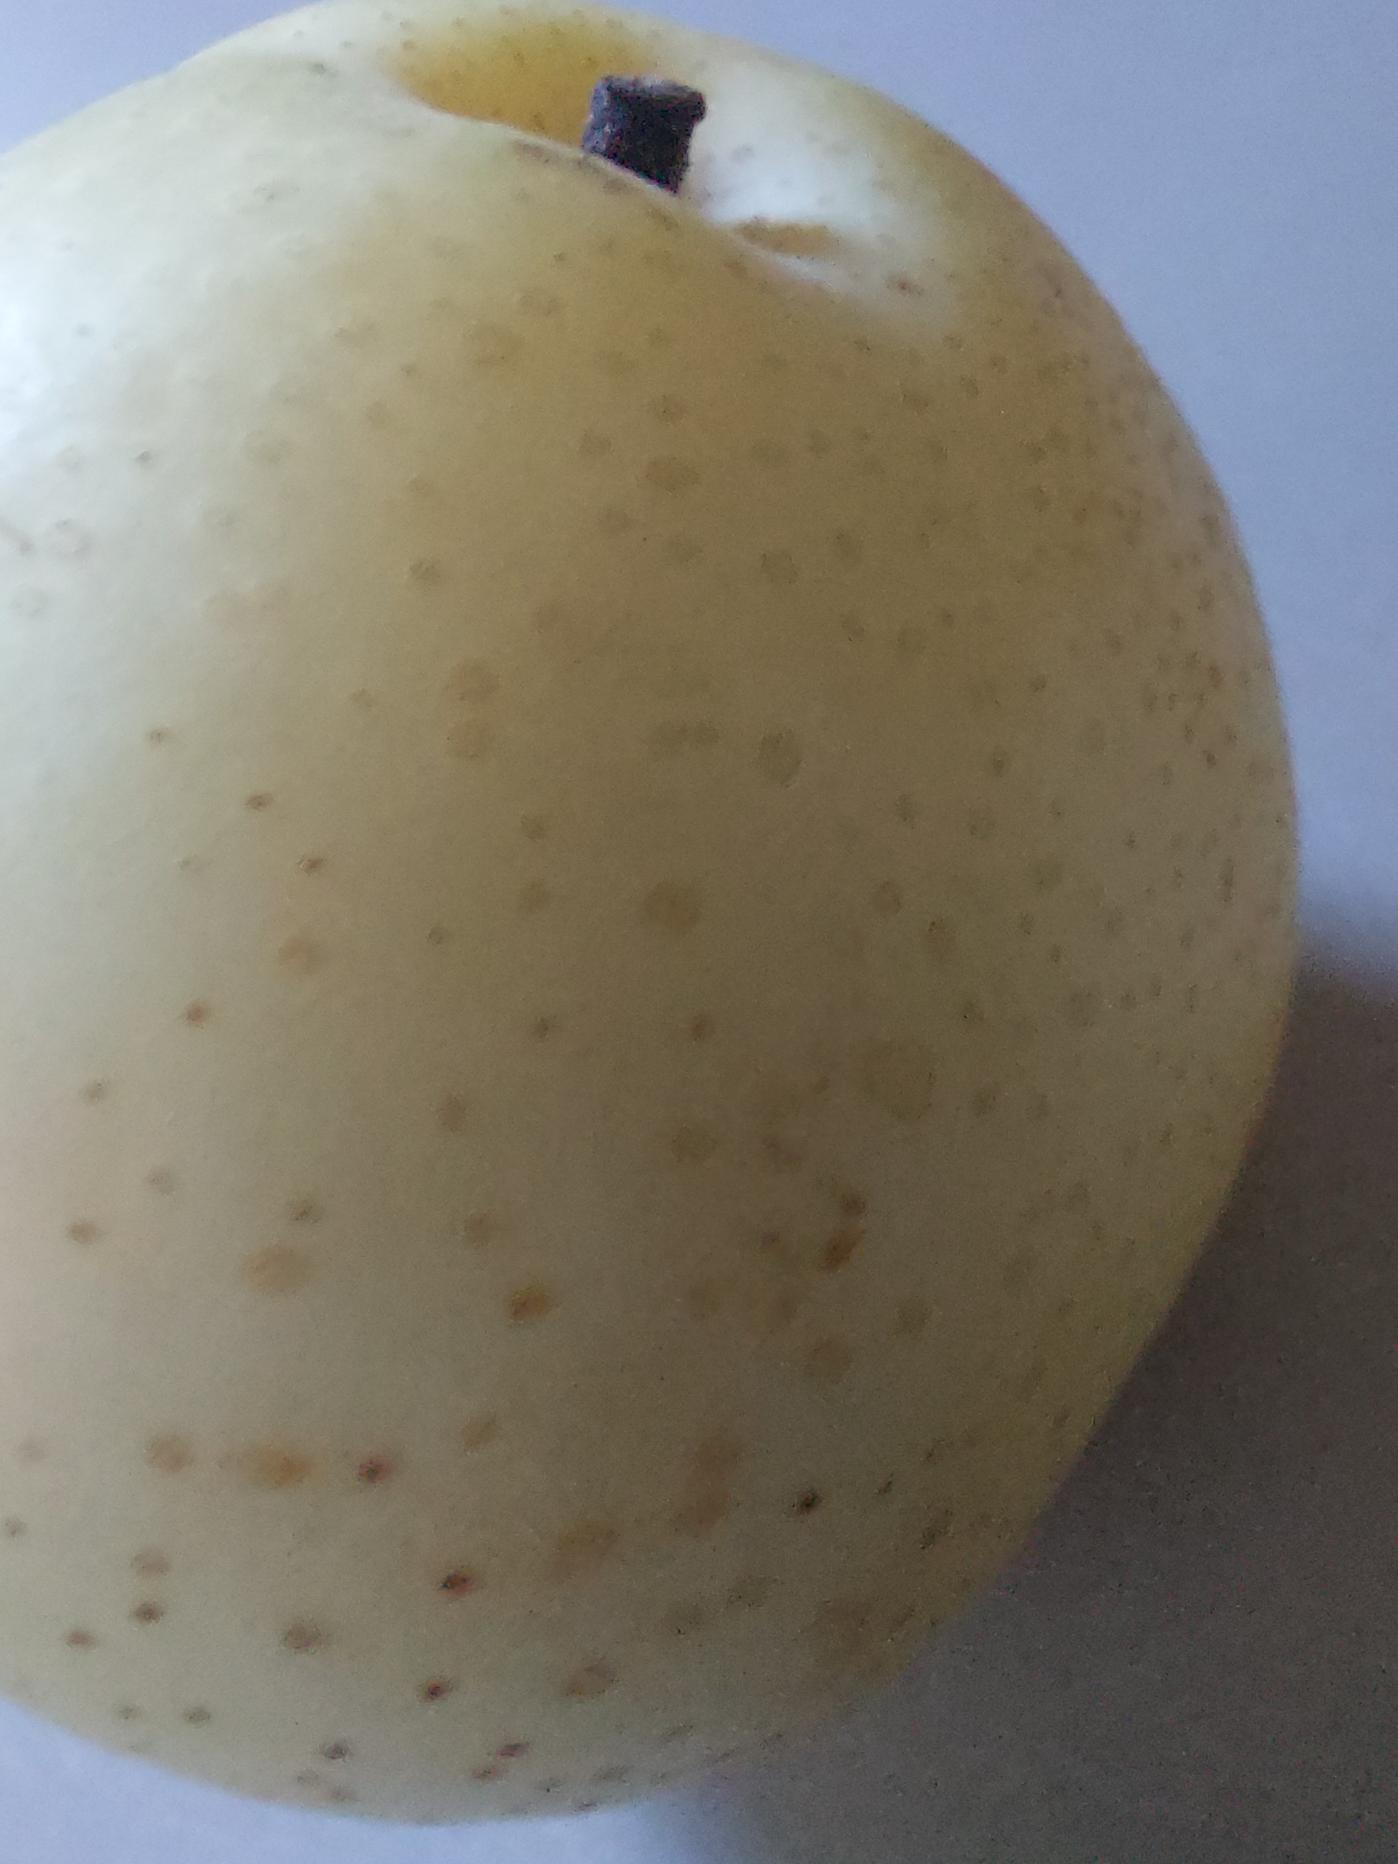Good Pear: (0, 0, 1342, 1829)
